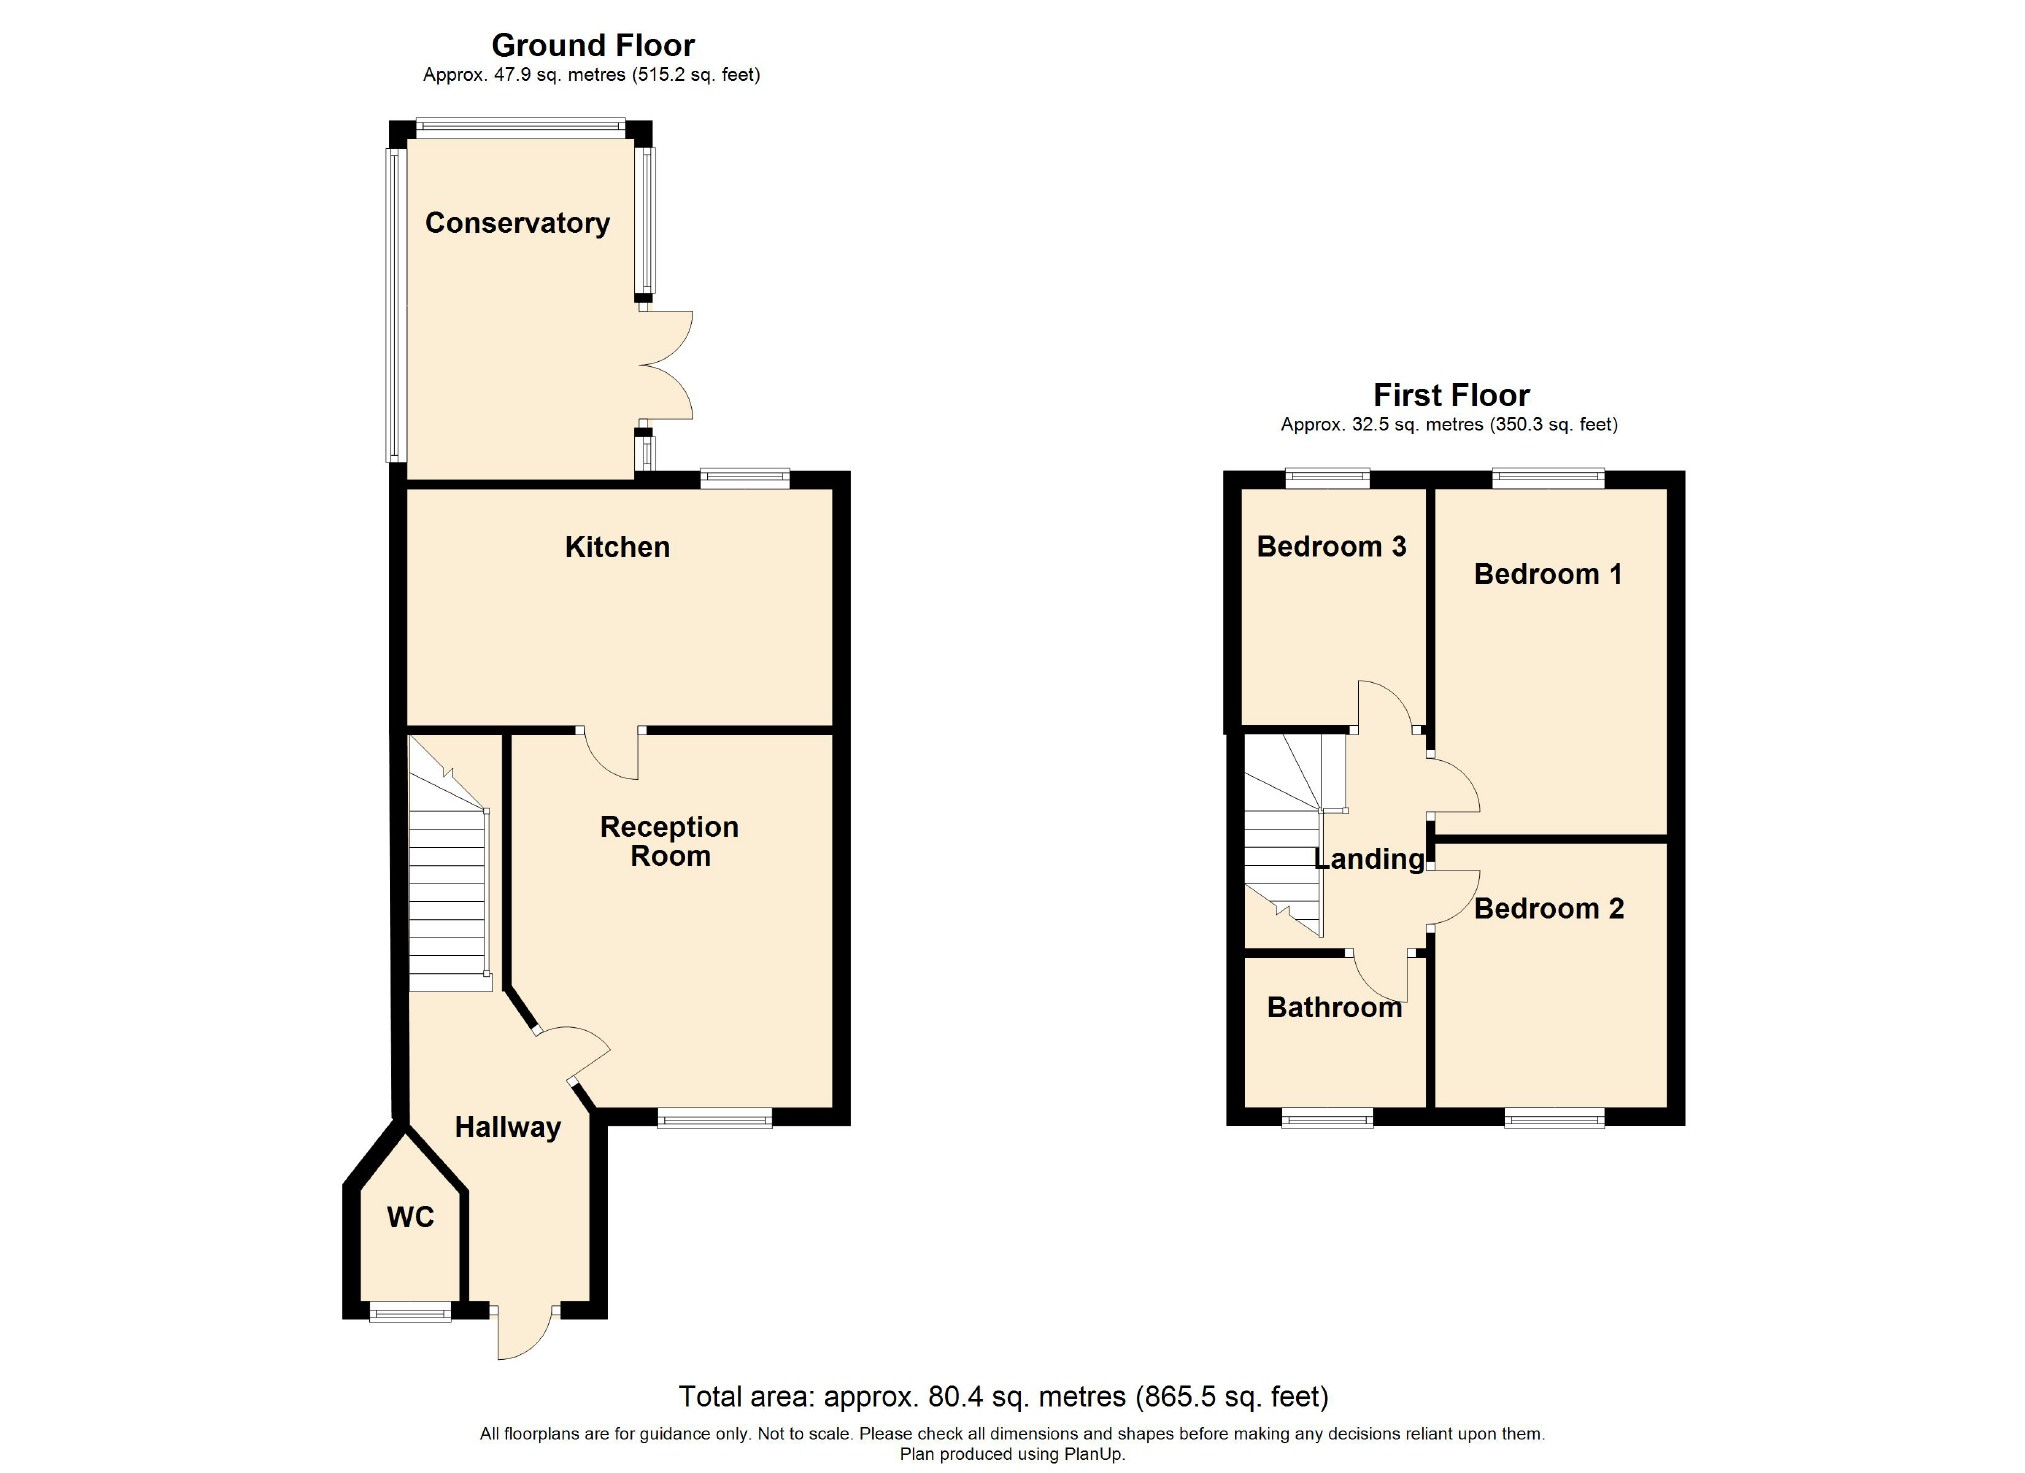door: (645, 303, 714, 423), (550, 1020, 615, 1075), (1439, 758, 1490, 821), (1351, 961, 1417, 1008), (580, 737, 641, 788), (1440, 868, 1486, 934), (1347, 678, 1413, 723), (494, 1319, 552, 1363)
